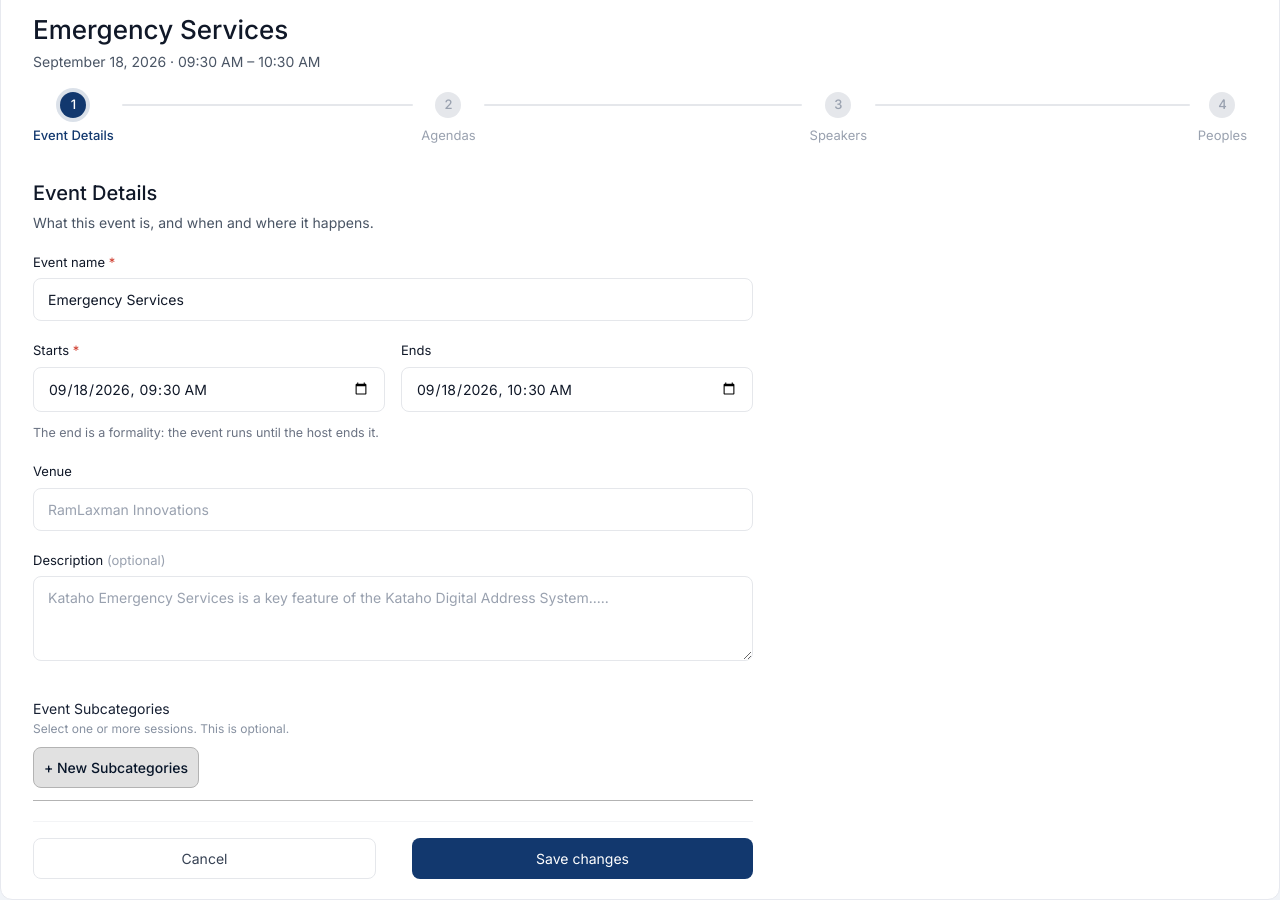
Scenario: the actions at the foot of each step › and from the speakers to the people
(page scrolled)
Click the button "Save changes". click: (582, 859)
box: [412, 838, 753, 879]
(page scrolled)
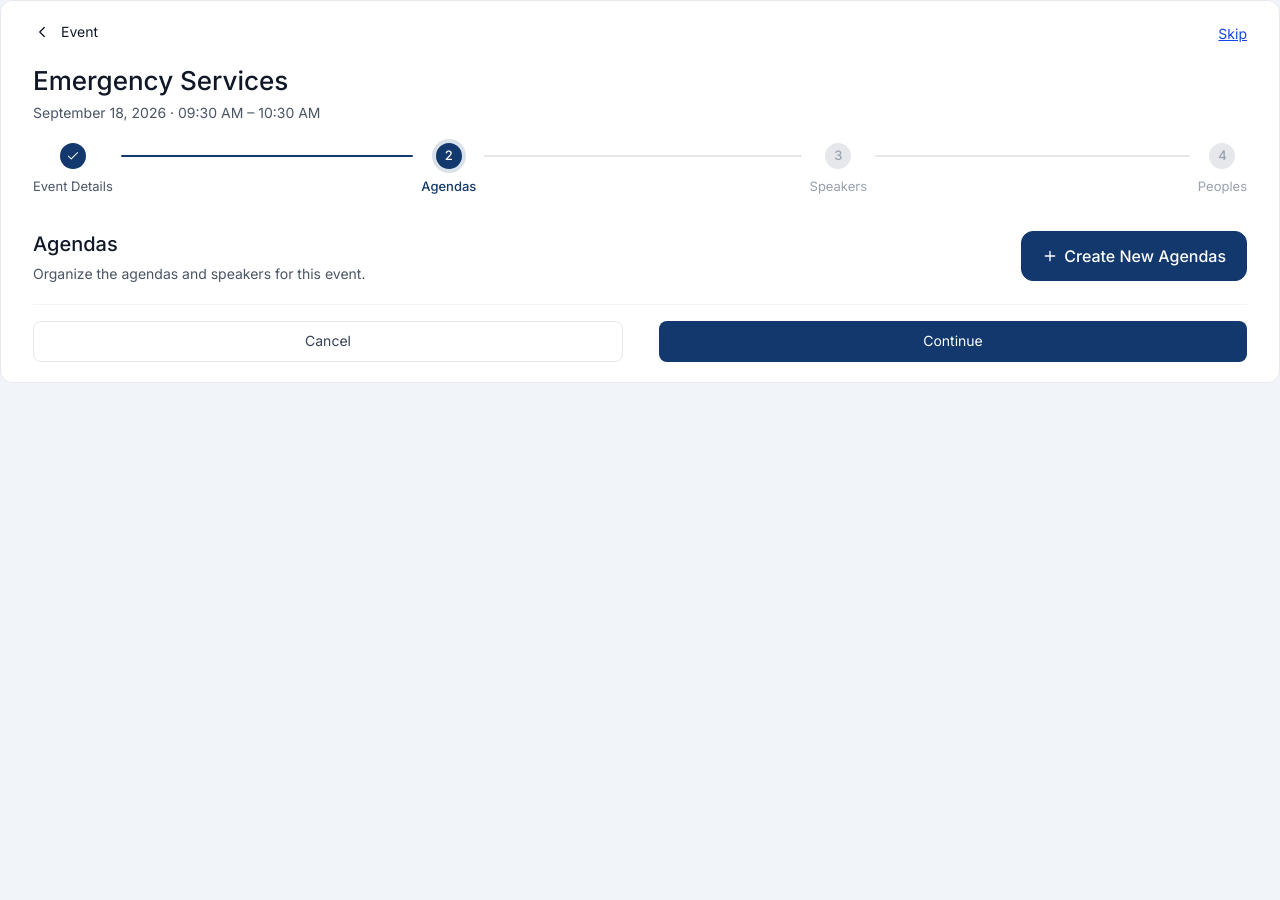
Click the button "Continue". click: (953, 341)
box: [659, 321, 1247, 362]
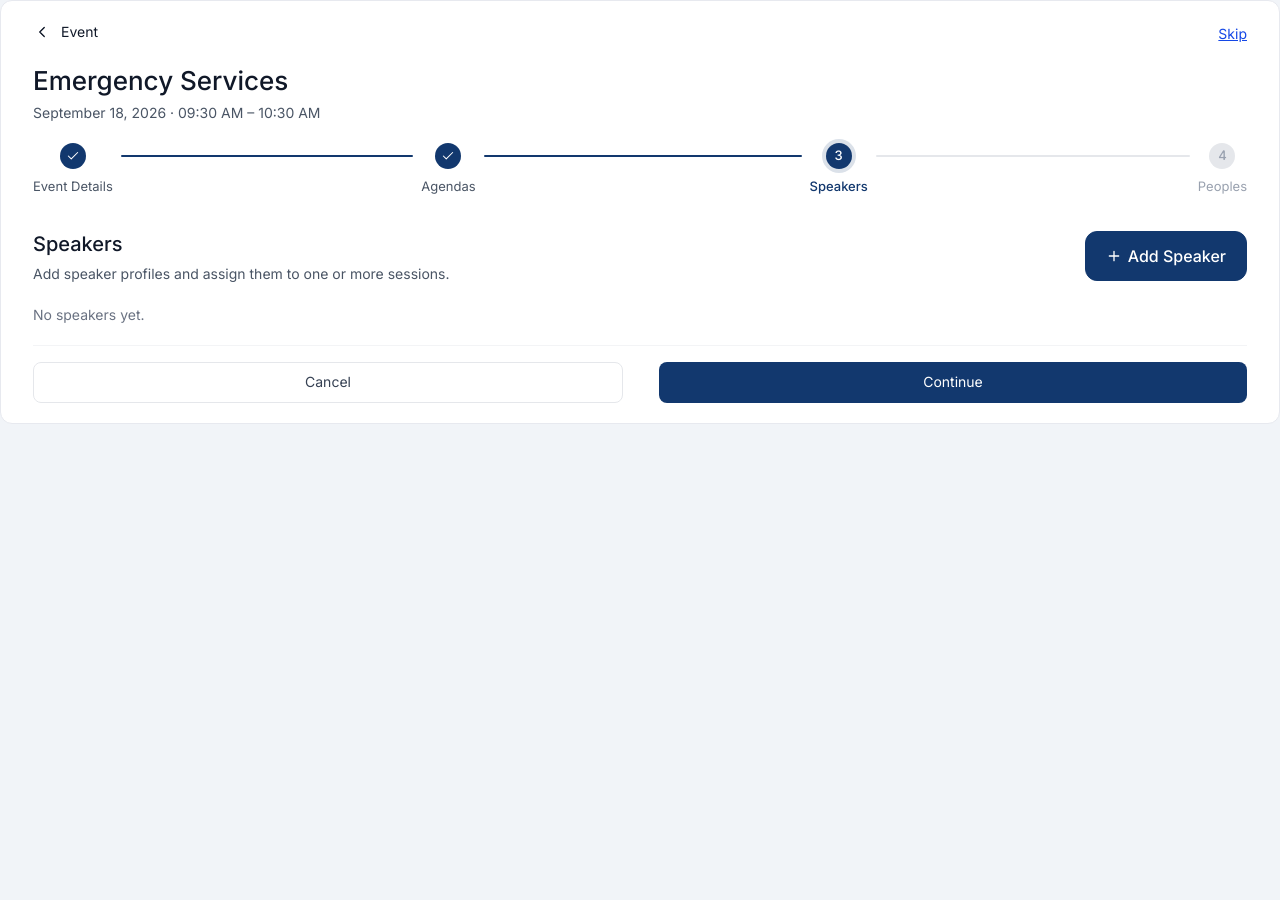
Click the button "Continue". click: (953, 382)
box: [659, 362, 1247, 403]
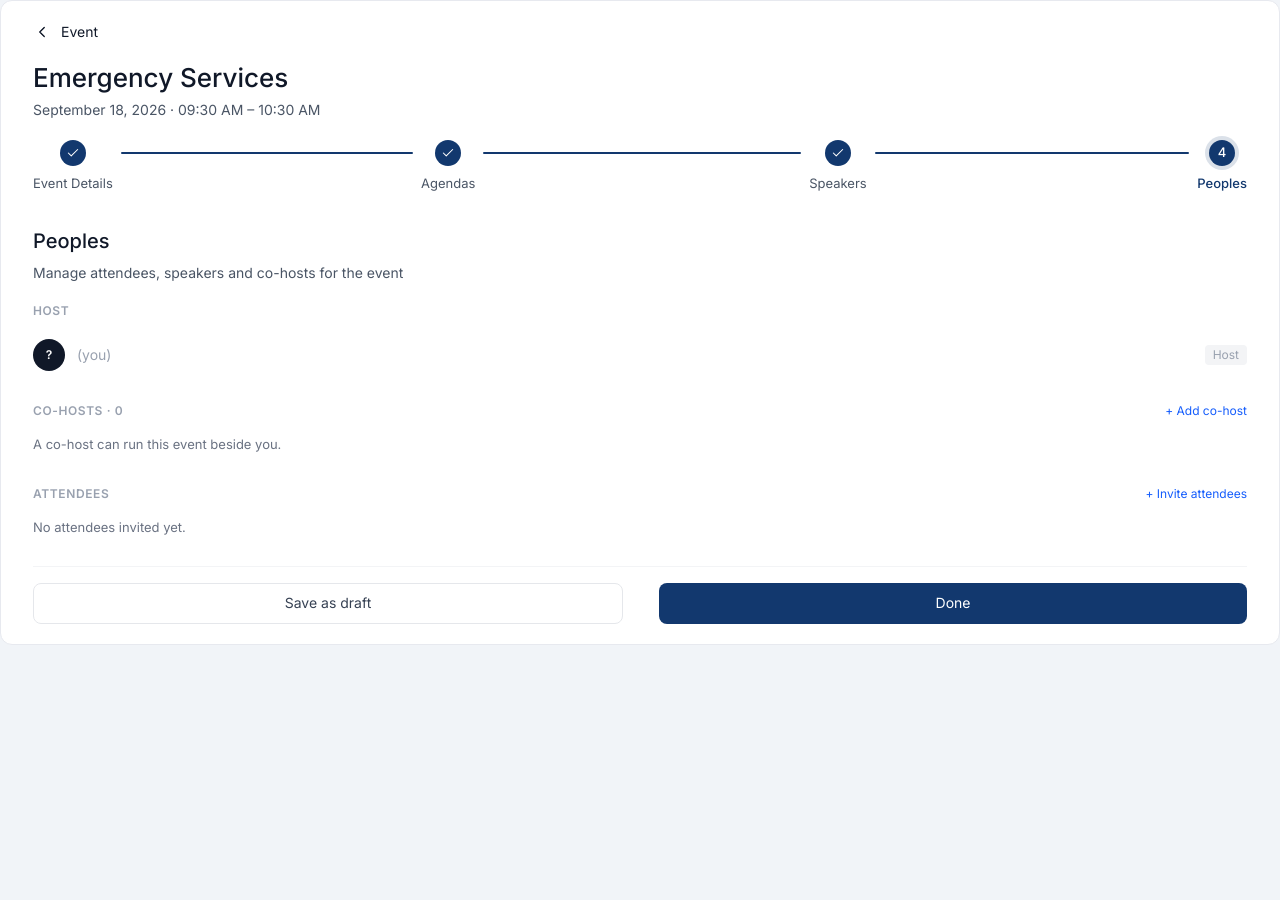
Now the heading "Peoples" is shown, box [33, 229, 110, 253]
